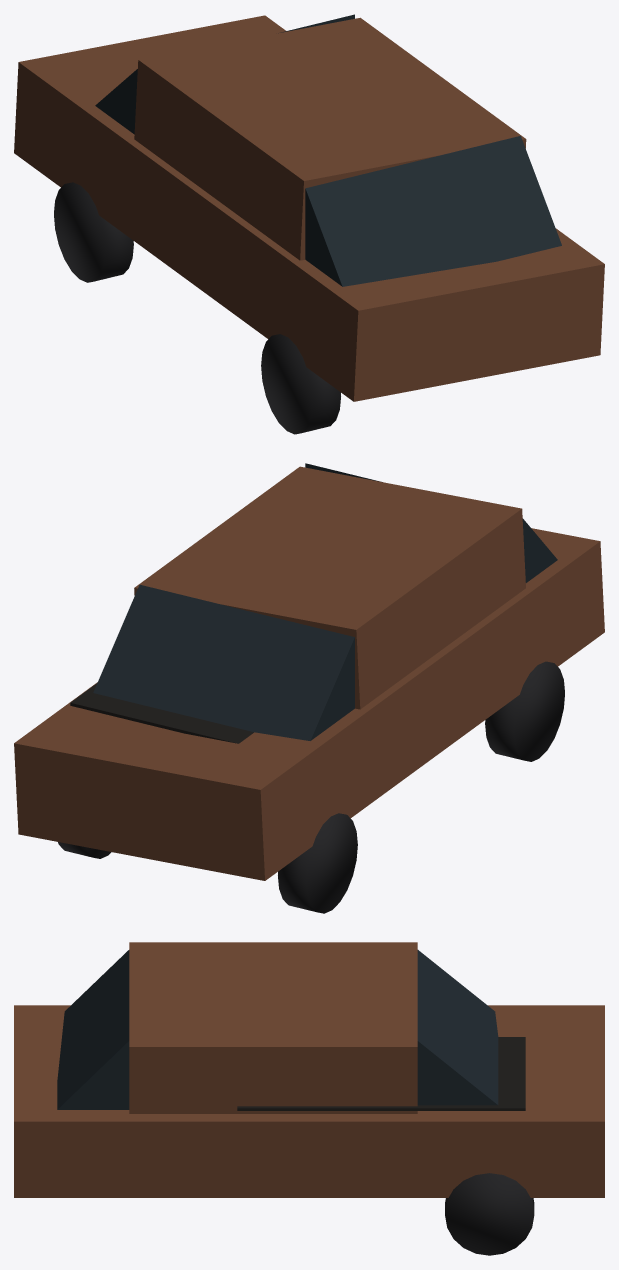
File: CarWreck.fbx
3 renders of one model, top to bottom at view 1: azimuth 30°, elevation 25°; view 2: azimuth 150°, elevation 25°; view 3: azimuth 270°, elevation 25°, orthographic. The views are drawn at different scales.
Parts seen in each view (by area): view 1: Body, Cabin, RearScreen, Wheel-10, Wheel-11, Windscreen; view 2: Body, Cabin, Windscreen, Wheel-11, Wheel-10, Soot, RearScreen; view 3: Body, Cabin, Windscreen, RearScreen, Wheel10, Soot.
Boxes of the visible parts, bbox=[...] form: Body: bbox=[14, 15, 604, 401]; Cabin: bbox=[134, 17, 526, 260]; RearScreen: bbox=[305, 136, 561, 286]; Wheel-10: bbox=[54, 182, 133, 282]; Wheel-11: bbox=[261, 334, 340, 434]; Windscreen: bbox=[95, 14, 354, 134]; Body: bbox=[14, 528, 604, 880]; Cabin: bbox=[134, 466, 525, 709]; Windscreen: bbox=[93, 584, 354, 740]; Wheel-11: bbox=[485, 661, 564, 761]; Wheel-10: bbox=[278, 813, 357, 913]; Soot: bbox=[70, 683, 253, 743]; RearScreen: bbox=[305, 463, 557, 582]; Body: bbox=[14, 1005, 604, 1197]; Cabin: bbox=[129, 942, 417, 1113]; Windscreen: bbox=[417, 950, 498, 1105]; RearScreen: bbox=[57, 950, 129, 1109]; Wheel10: bbox=[445, 1173, 534, 1255]; Soot: bbox=[237, 1037, 525, 1110].
Bounding box in the file's own units: 176 × 410 × 164.
